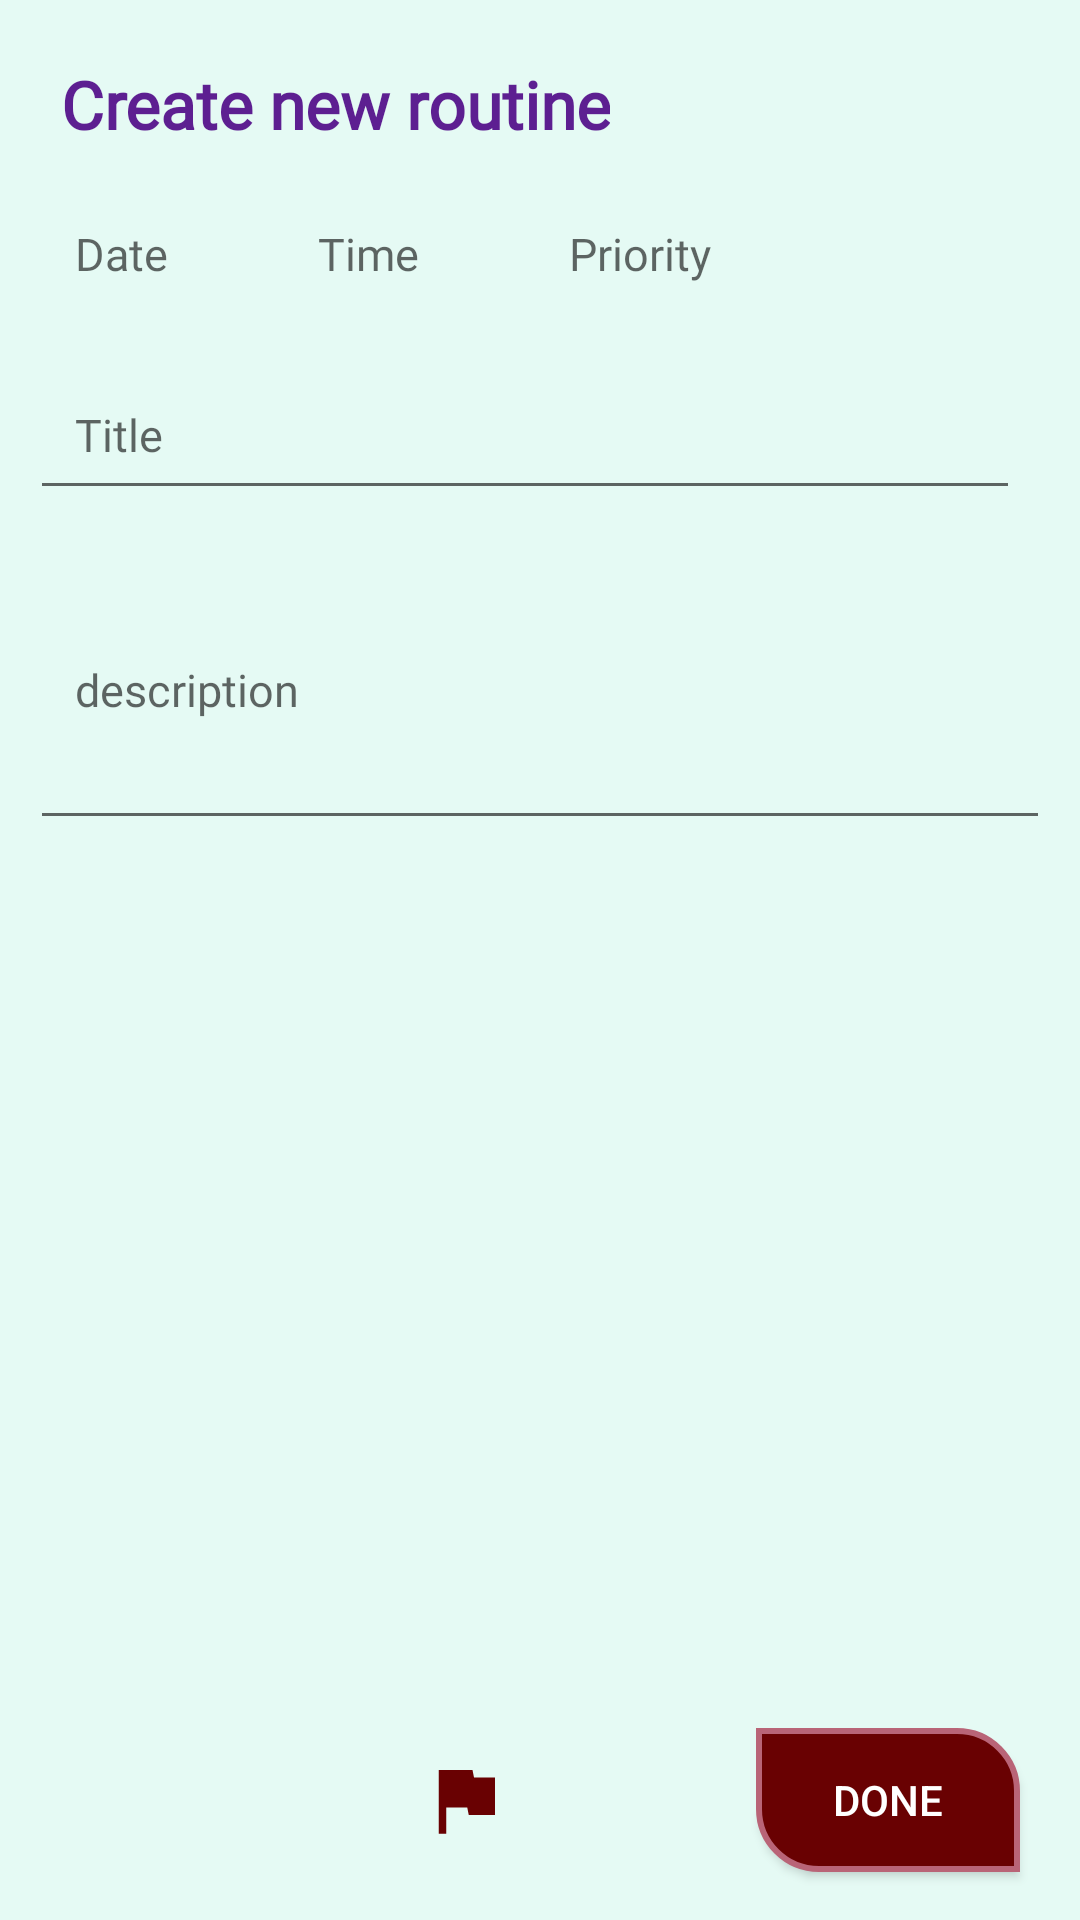

Icon bounding boxes for this 1080 x 1920 phone screenshot, format region(x1, y1, x2, y2):
flag: region(438, 1770, 495, 1834)
